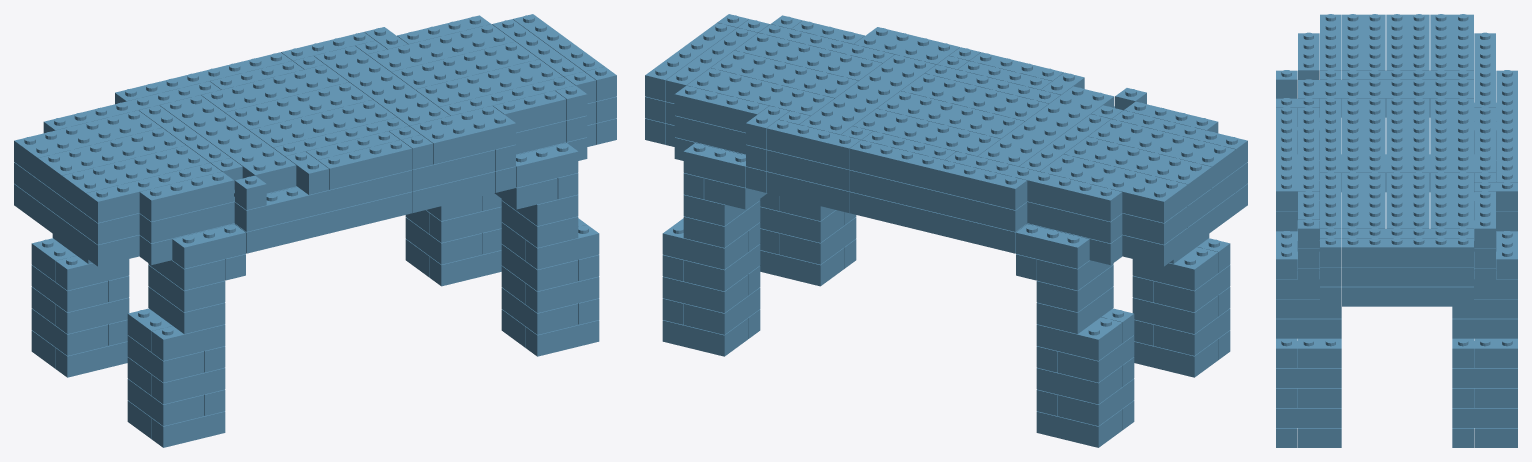
Rendered from 228_table_L3.glb.
3 views of the same model, side by side, from view 1: azimuth 30°, elevation 25°; view 2: azimuth 150°, elevation 25°; view 3: azimuth 270°, elevation 25° (orthographic). The views are drawn at different scales.
Bounding box in the file's own units: 24.98 × 11.13 × 10.98.
